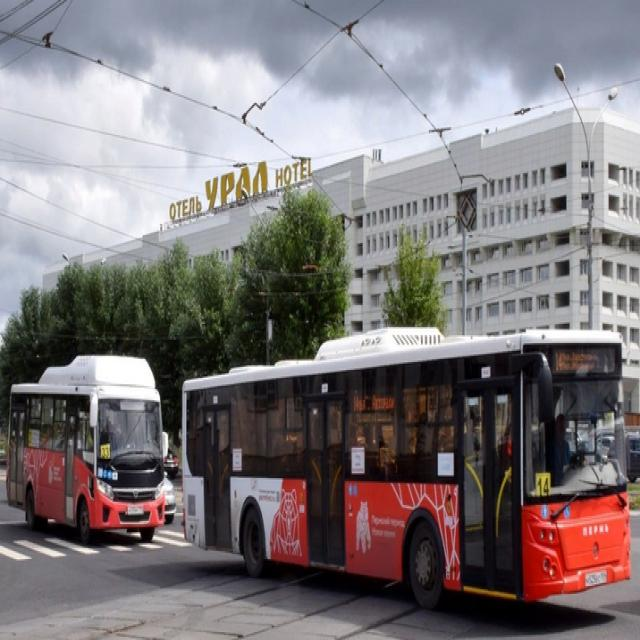non emergency car: (183, 326, 630, 613), (8, 356, 167, 545)
